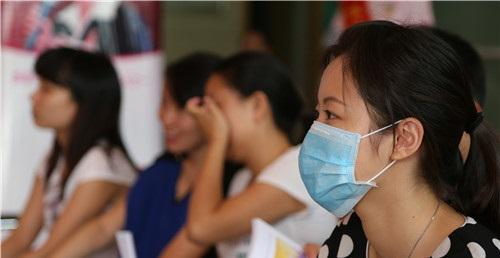NONE: (201, 86, 251, 151), (161, 88, 205, 150), (32, 79, 71, 128)
OK: (299, 89, 385, 213)
